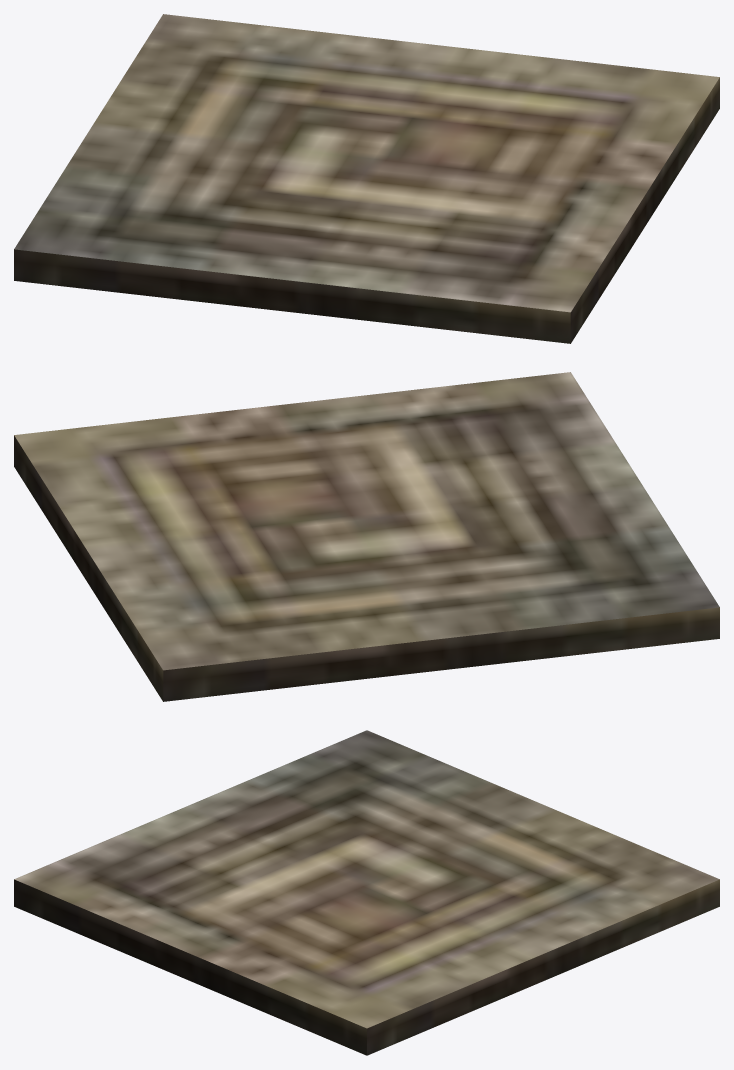
3 renders of one model, top to bottom at view 1: azimuth 30°, elevation 25°; view 2: azimuth 150°, elevation 25°; view 3: azimuth 270°, elevation 25°, orthographic. The views are drawn at different scales.
Visible parts, largest first — view 1: a44; view 2: a44; view 3: a44.
Part boxes in pixels (bbox=[...]): a44: bbox=[14, 14, 719, 343]; a44: bbox=[14, 372, 719, 701]; a44: bbox=[14, 730, 719, 1055].
Bounding box in the file's own units: 774 × 32.97 × 774.
